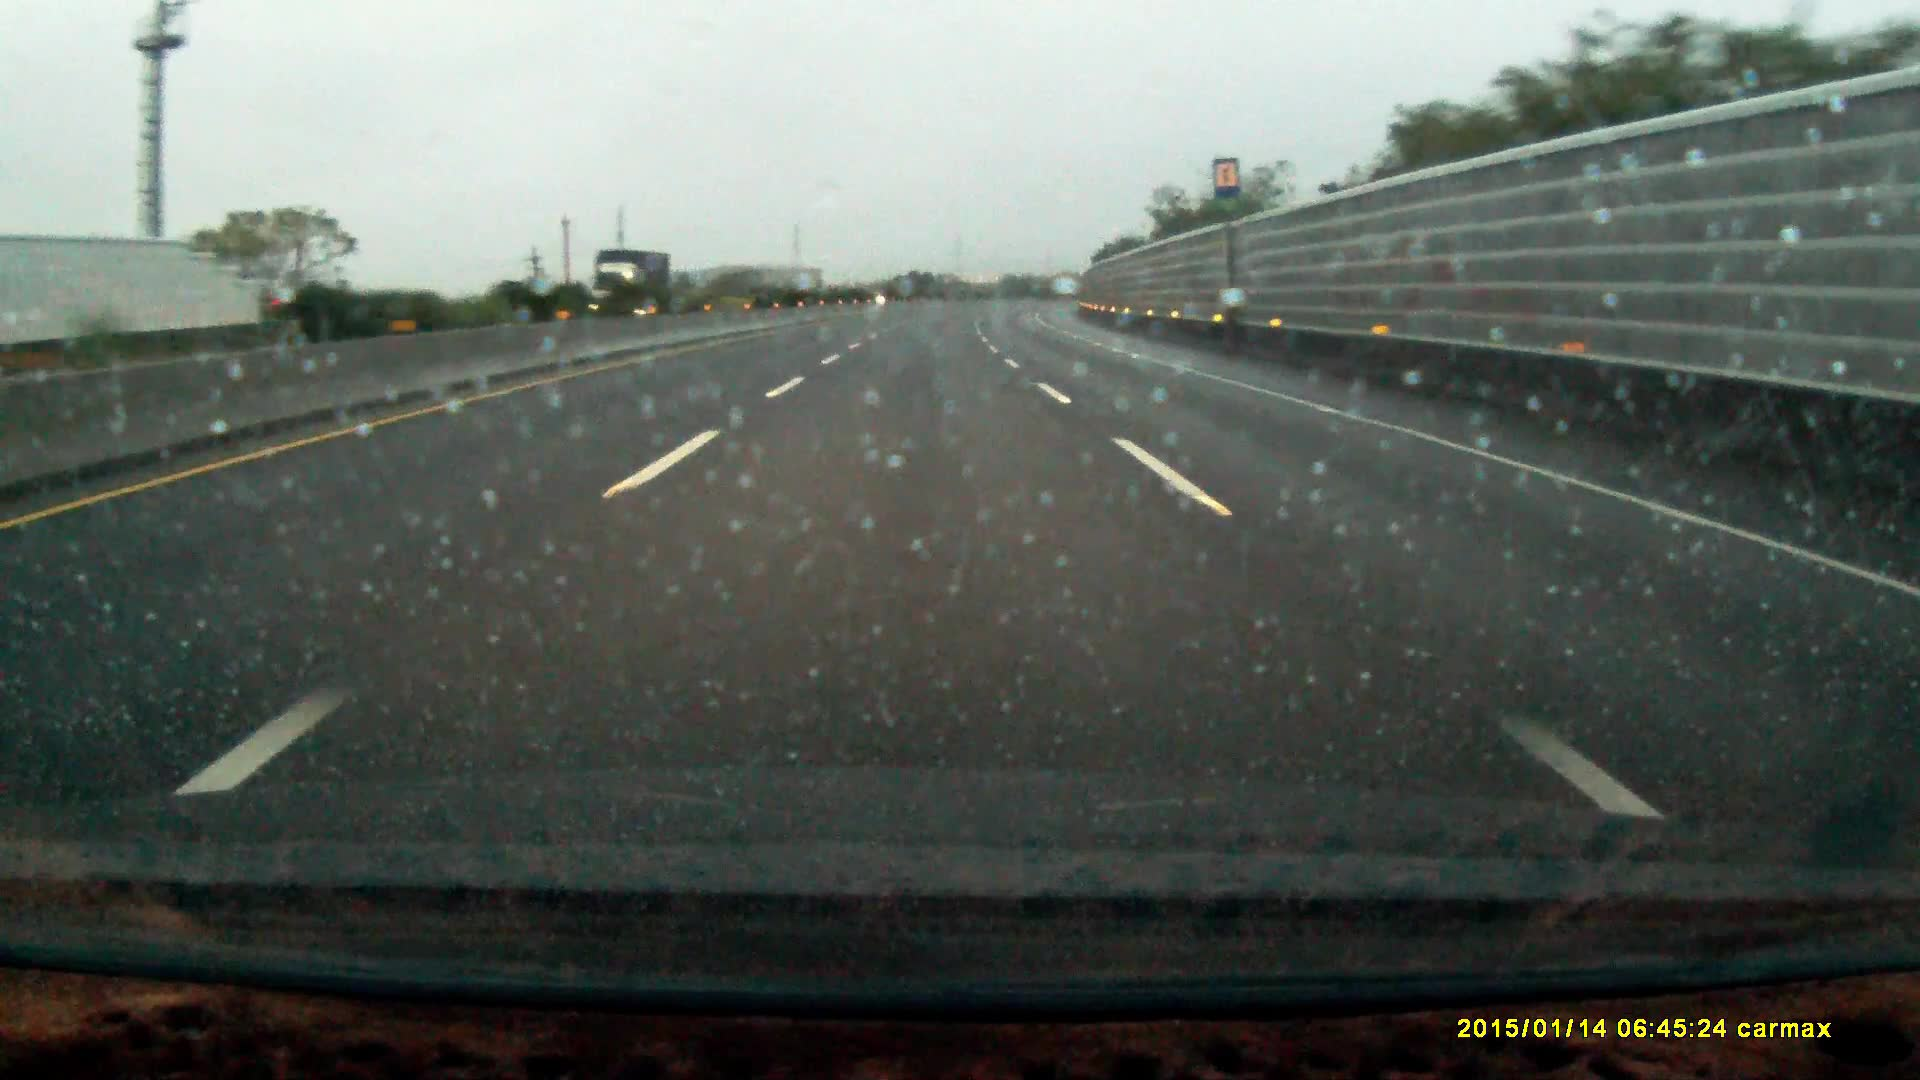vehicle: (593, 247, 675, 314)
